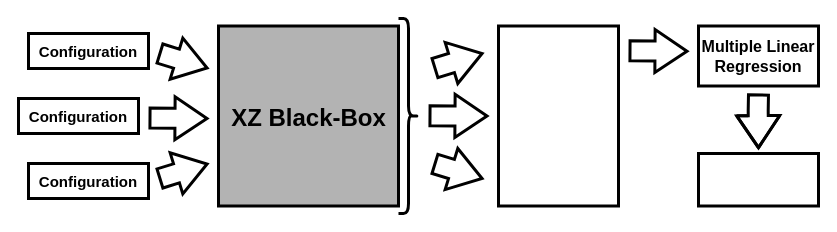
Image size: 837x232. Some labels were removed from this diagram. The box of each missing label's shape, as (x1, y1, x2, y2) in pixels:
Measurements: (496, 24, 620, 207)
Performance - Influence Model: (696, 152, 820, 207)
